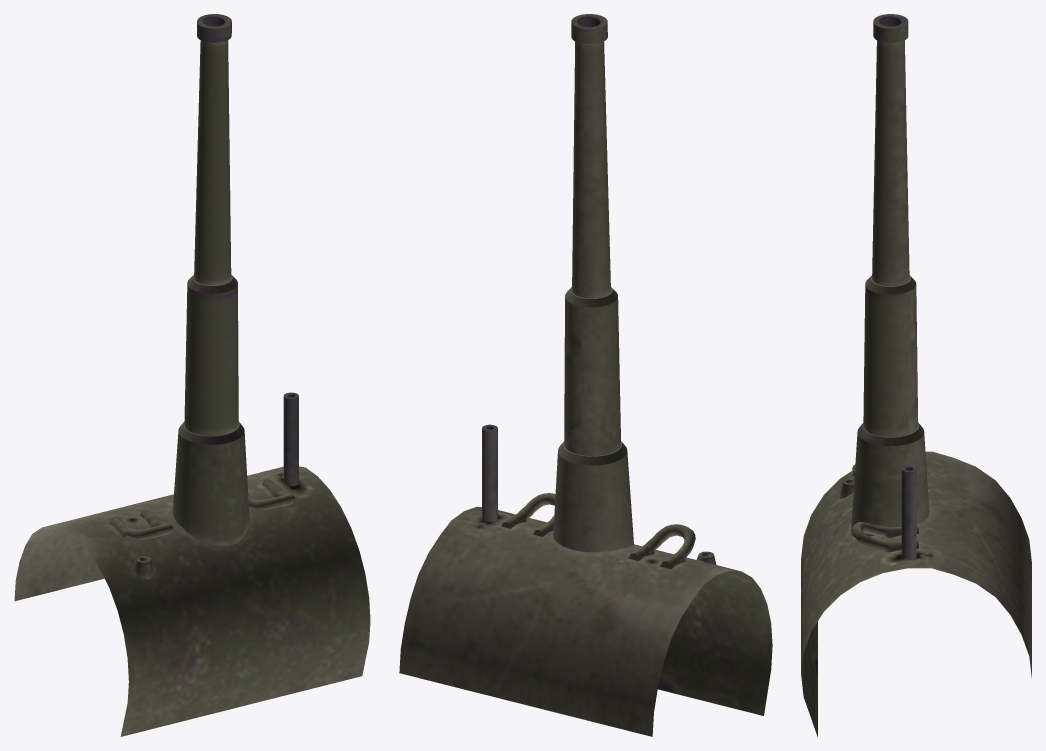
File: Gun_01.glb
3 views of the same model, side by side, from view 1: azimuth 30°, elevation 25°; view 2: azimuth 150°, elevation 25°; view 3: azimuth 270°, elevation 25° (orthographic). The views are drawn at different scales.
Visible parts, largest first — view 1: set_0_group_0; view 2: set_0_group_0; view 3: set_0_group_0.
Part boxes in pixels (x1,y1,x2,y2): set_0_group_0: (14, 14, 370, 736); set_0_group_0: (399, 14, 772, 736); set_0_group_0: (801, 14, 1031, 736).
Bounding box in the file's own units: 0.5916 × 1.54 × 0.4854.
Materials: 1 (1 with a texture image).
